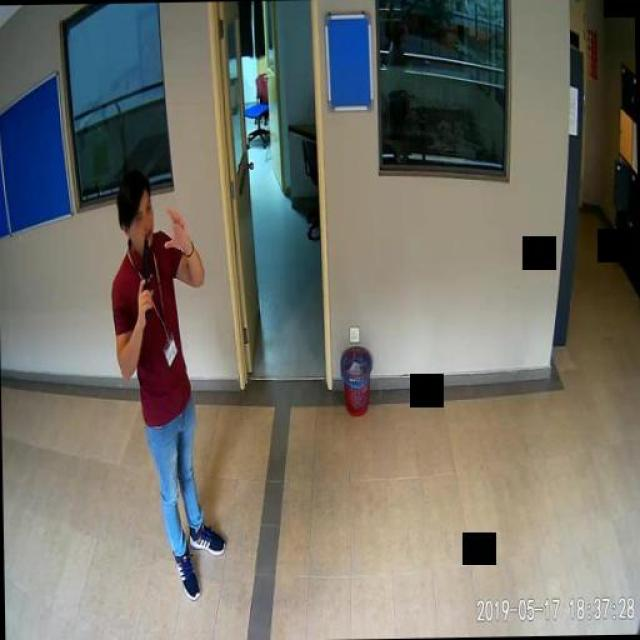gun: (138, 238, 152, 318)
